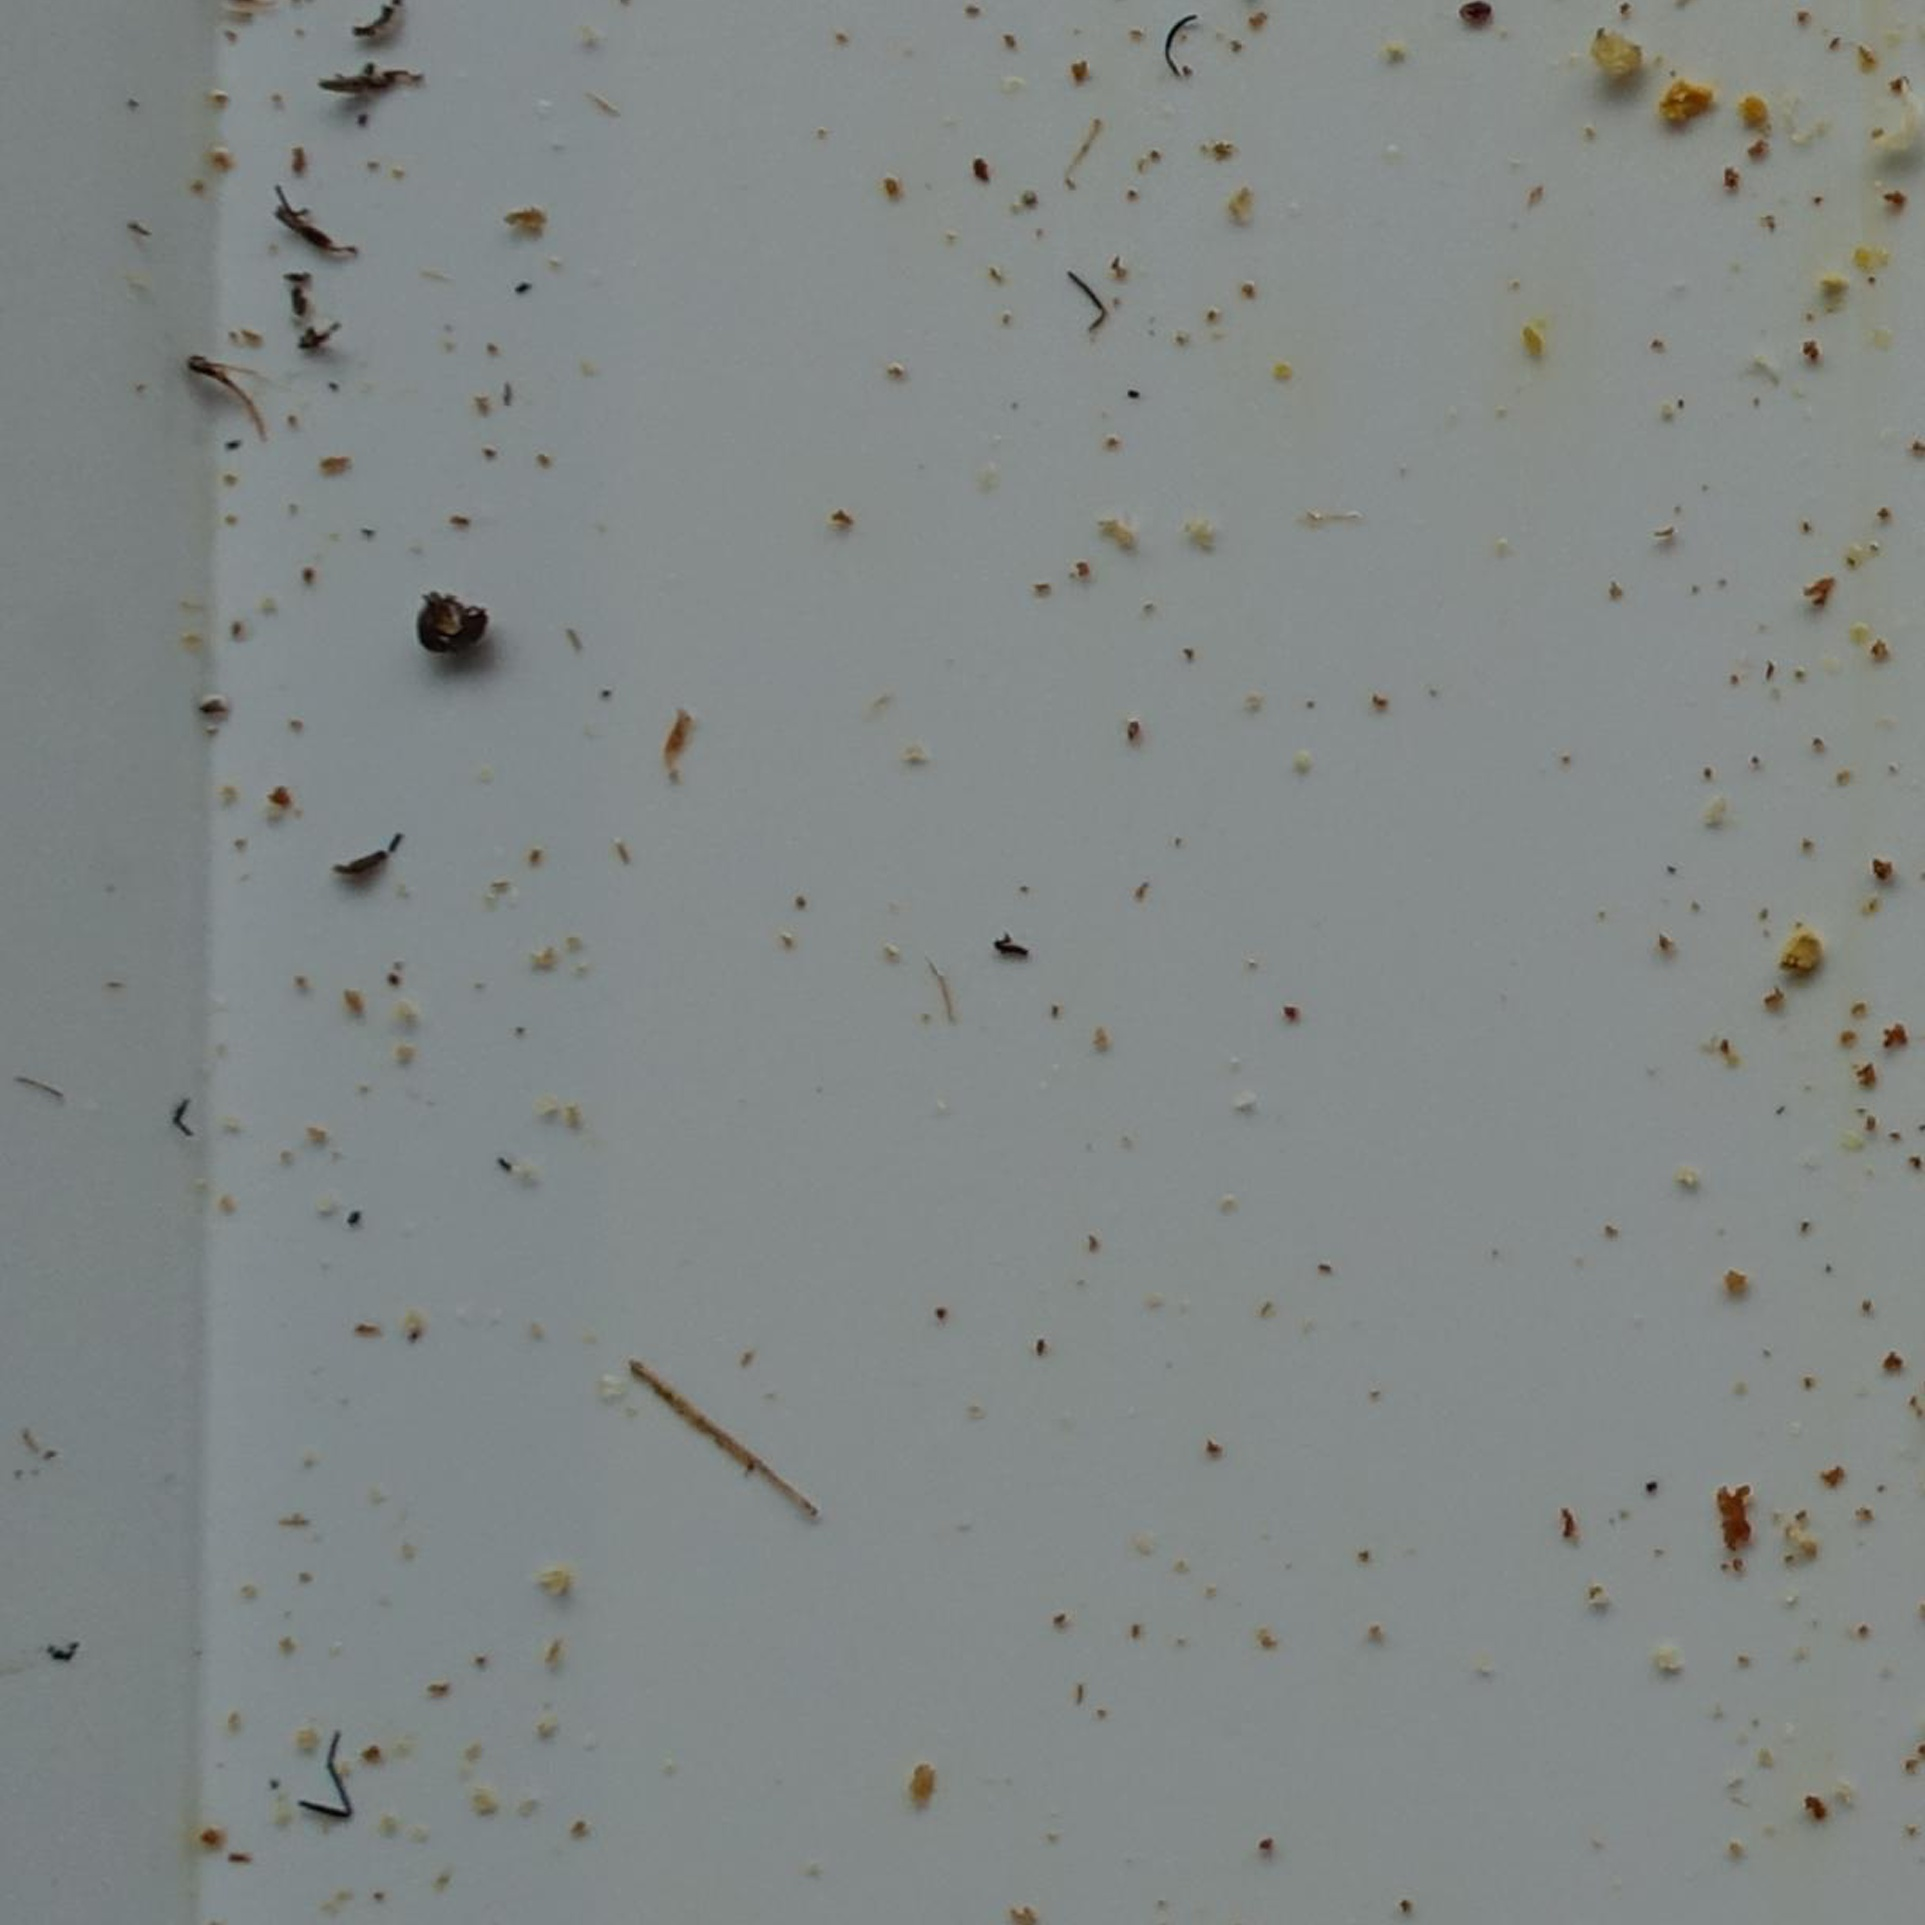Varroa: (1470, 9, 1481, 19)
